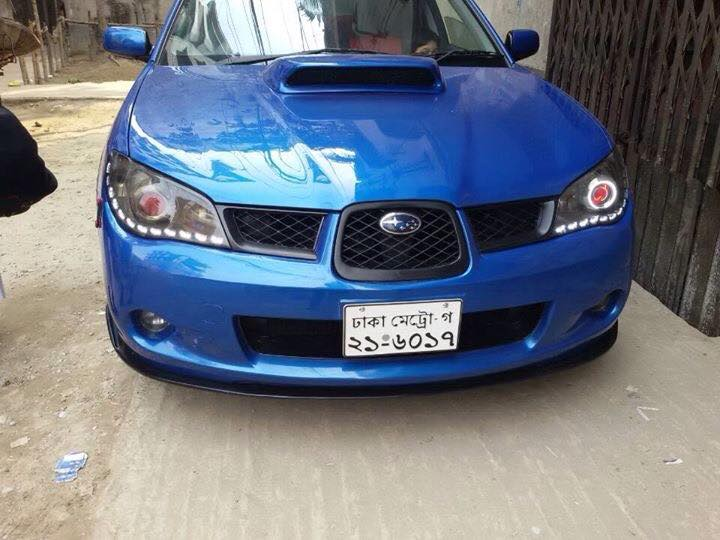registration_plate: (340, 297, 463, 358)
